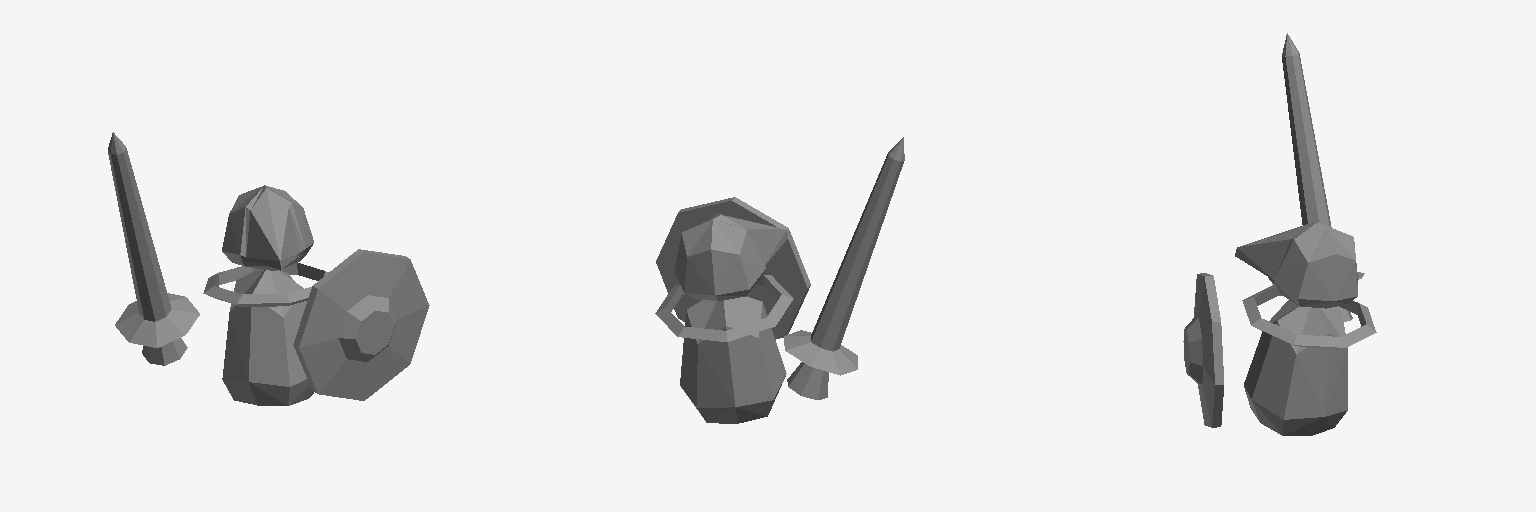
3 views of the same model, side by side, from view 1: azimuth 30°, elevation 25°; view 2: azimuth 150°, elevation 25°; view 3: azimuth 270°, elevation 25° (orthographic).
Parts seen in each view (by area): view 1: meshMinion; view 2: meshMinion; view 3: meshMinion.
Boxes of the visible parts, x1,y1,x2,y2 form: meshMinion: [108, 132, 429, 405]; meshMinion: [655, 137, 904, 423]; meshMinion: [1183, 33, 1376, 435].
Size of the model in its own units: 150 by 158 by 88.72.